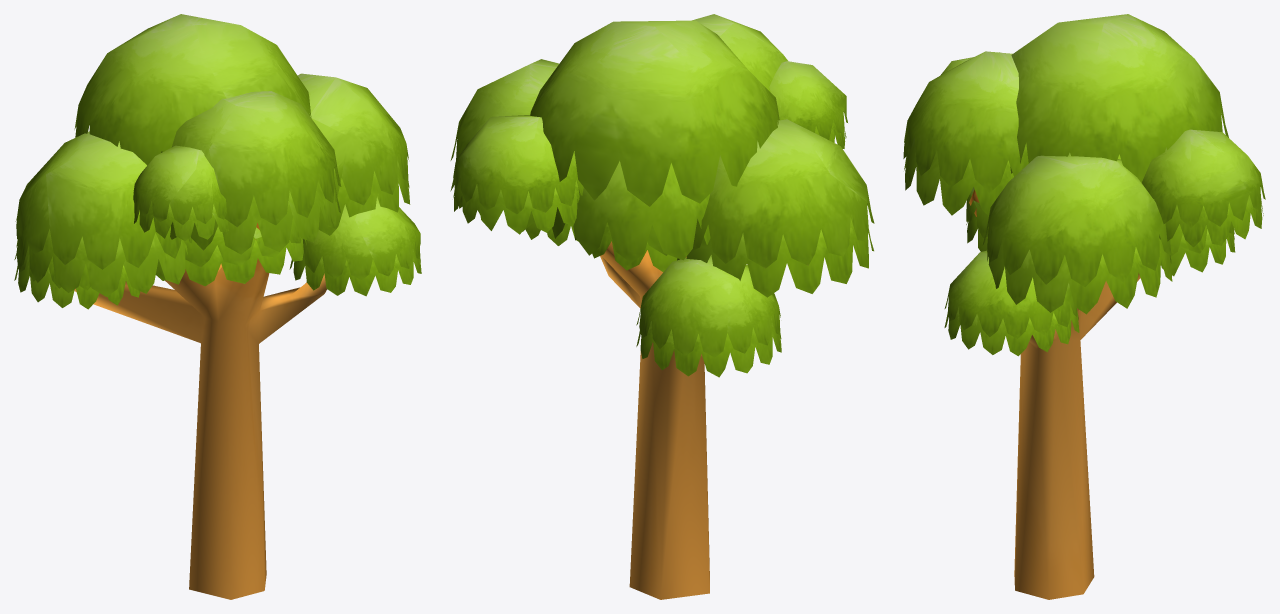
File: Obj_Tree.gltf
3 renders of one model, left to right at view 1: azimuth 30°, elevation 25°; view 2: azimuth 150°, elevation 25°; view 3: azimuth 270°, elevation 25°, orthographic. The views are drawn at different scales.
Parts seen in each view (by area): view 1: Obj_Tree; view 2: Obj_Tree; view 3: Obj_Tree.
Part boxes in pixels (box(x1,y1,x2,y2)): Obj_Tree: box(14, 14, 421, 599); Obj_Tree: box(450, 14, 874, 599); Obj_Tree: box(903, 14, 1265, 599).
Size of what is drawn, in the model's own units: 3.59 by 4.99 by 2.96.
Materials: 1 (1 with a texture image).
